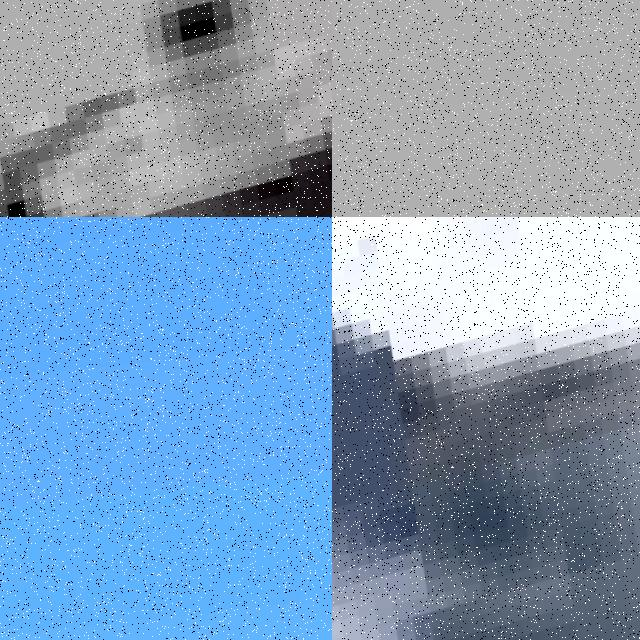drone: (332, 217, 640, 640), (0, 0, 332, 217)
